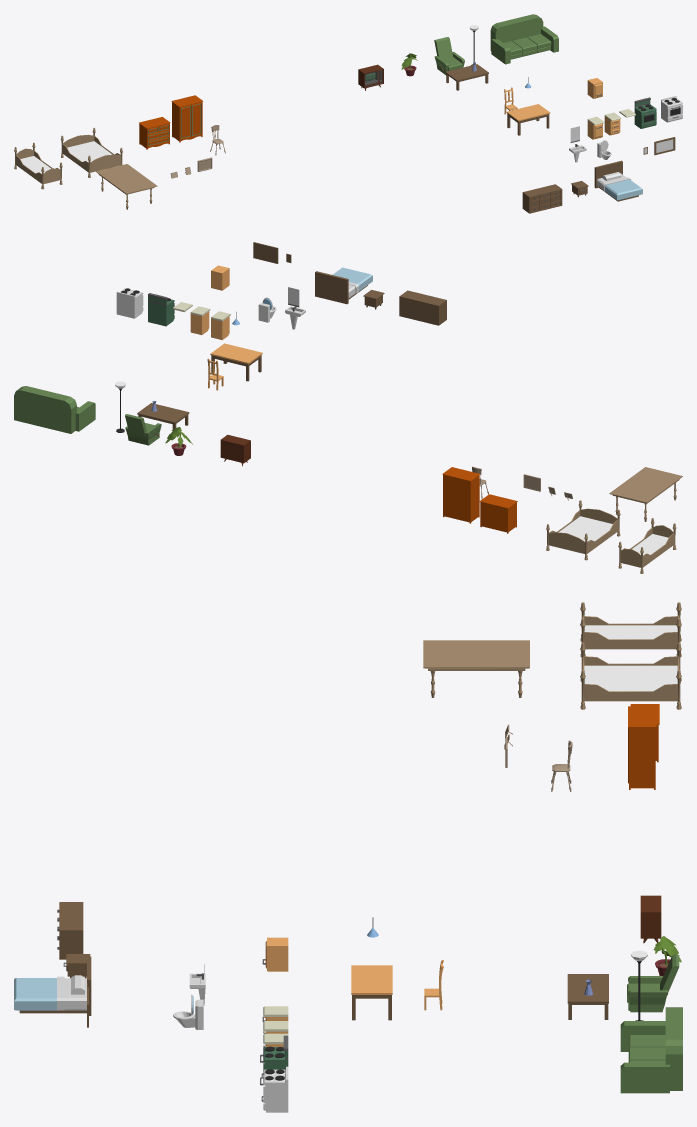
The model's file is Furniture_Assets_v1.fbx.
The picture shows the model from 3 angles, top to bottom: view 1: azimuth 30°, elevation 25°; view 2: azimuth 150°, elevation 25°; view 3: azimuth 270°, elevation 25°; orthographic projection. The views are drawn at different scales.
Visible parts, largest first — view 1: Village_Furniture_Couch, Farm_Bed_Big_1, Farm_Wardrobe_1, Village_Furniture_Bed_1, Farm_Table_01, Farm_Bed_Small_1, Village_Furniture_Dresser, Farm_Dresser_1, Village_Furniture_Recliner_1, Village_Furniture_KitchenTable_1, Village_Furniture_Stove_2, Village_Furniture_LivingroomTable_1 (+4 smaller); view 2: Village_Furniture_Couch, Farm_Bed_Big_1, Farm_Wardrobe_1, Farm_Table_01, Farm_Bed_Small_1, Village_Furniture_Bed_1, Village_Furniture_Dresser, Farm_Dresser_1, Village_Furniture_KitchenTable_1, Village_Furniture_Recliner_1, Village_Furniture_Stove_2, Village_Furniture_TV_1 (+3 smaller); view 3: Village_Furniture_Couch, Farm_Bed_Big_1, Farm_Table_01, Farm_Bed_Small_1, Village_Furniture_Bed_1, Farm_Wardrobe_1, Village_Furniture_Recliner_1, Village_Furniture_KitchenTable_1, Village_Furniture_Dresser, Village_Furniture_LivingroomTable_1, Village_Furniture_Stove_1, Village_Furniture_TV_1 (+1 smaller).
Boxes of the visible parts, x1,y1,x2,y2 form: Village_Furniture_Couch: [490, 14, 558, 64]; Farm_Bed_Big_1: [60, 127, 122, 177]; Farm_Wardrobe_1: [171, 95, 202, 142]; Village_Furniture_Bed_1: [594, 160, 642, 201]; Farm_Table_01: [96, 164, 157, 209]; Farm_Bed_Small_1: [14, 142, 62, 189]; Village_Furniture_Dresser: [522, 184, 562, 213]; Farm_Dresser_1: [139, 117, 170, 149]; Village_Furniture_Recliner_1: [434, 37, 464, 75]; Village_Furniture_KitchenTable_1: [506, 104, 550, 135]; Village_Furniture_Stove_2: [634, 97, 656, 128]; Village_Furniture_LivingroomTable_1: [445, 64, 488, 90]; Village_Furniture_Couch: [14, 386, 95, 433]; Farm_Bed_Big_1: [546, 500, 620, 560]; Farm_Wardrobe_1: [442, 467, 480, 523]; Farm_Table_01: [609, 467, 682, 521]; Farm_Bed_Small_1: [618, 518, 676, 573]; Village_Furniture_Bed_1: [315, 267, 372, 304]; Village_Furniture_Dresser: [399, 290, 446, 325]; Farm_Dresser_1: [479, 494, 517, 533]; Village_Furniture_KitchenTable_1: [210, 343, 262, 381]; Village_Furniture_Recliner_1: [125, 414, 161, 445]; Village_Furniture_Stove_2: [148, 293, 174, 326]; Village_Furniture_TV_1: [220, 434, 250, 466]; Village_Furniture_Couch: [620, 1007, 682, 1093]; Farm_Bed_Big_1: [580, 642, 681, 709]; Farm_Table_01: [423, 640, 529, 697]; Farm_Bed_Small_1: [580, 602, 681, 657]; Village_Furniture_Bed_1: [14, 956, 91, 1015]; Farm_Wardrobe_1: [628, 706, 656, 789]; Village_Furniture_Recliner_1: [627, 954, 679, 1012]; Village_Furniture_KitchenTable_1: [351, 965, 392, 1020]; Village_Furniture_Dresser: [57, 902, 83, 959]; Village_Furniture_LivingroomTable_1: [567, 974, 608, 1019]; Village_Furniture_Stove_1: [260, 1066, 288, 1112]; Village_Furniture_TV_1: [640, 895, 661, 943].
Bounding box in the file's own units: 3354 × 335 × 1996.
